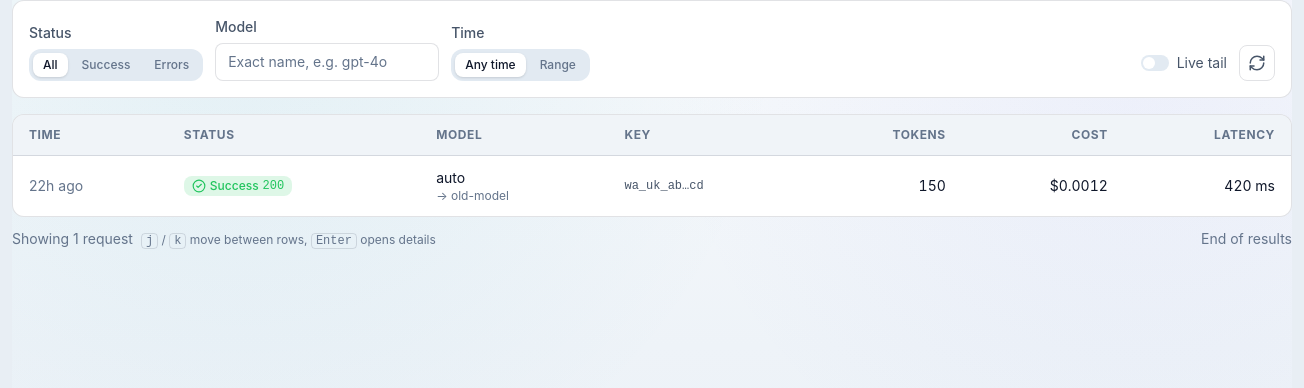
Test: RequestLogsPage live tail › auto-pauses when scrolled down and the pill jumps back to the top
The width and height of the screenshot is (1304, 388).
Check: the text "old-model" is shown, box 451,188 -> 509,203
Step 1. Click the switch named "Live tail" → [1155, 63], box 1141,55 -> 1169,71
Wait 3000 ms
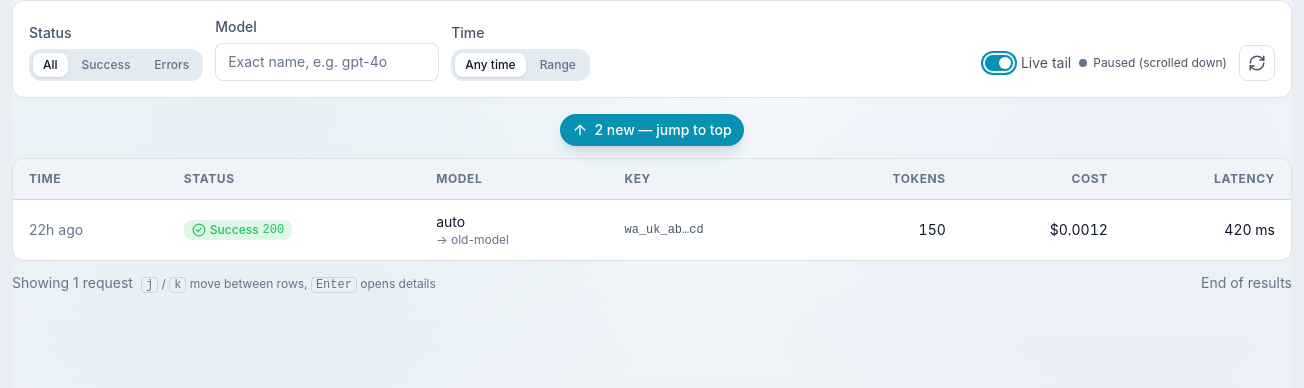
Check: the text "n2-model" is not shown
Check: the text "Paused (scrolled down)" is shown, box 1079,55 -> 1227,71
Step 2. Click the button "2 new — jump to top" → [652, 130], box 560,114 -> 744,146
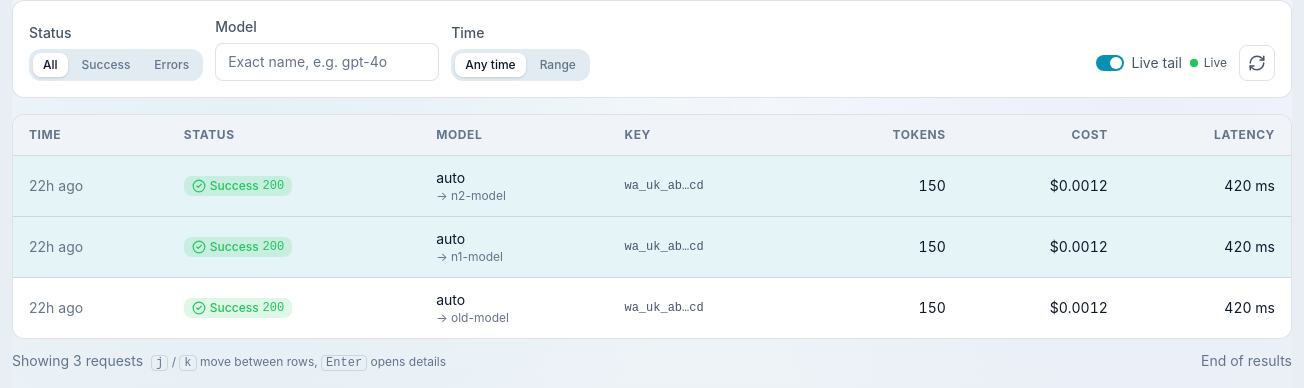
Check: the row that starts with "22h ago" shows "old-model", box 451,310 -> 509,325
Check: the row that starts with "22h ago" shows "n2-model", box 451,188 -> 506,203
Check: the row that starts with "22h ago" shows "n1-model", box 451,249 -> 503,264
